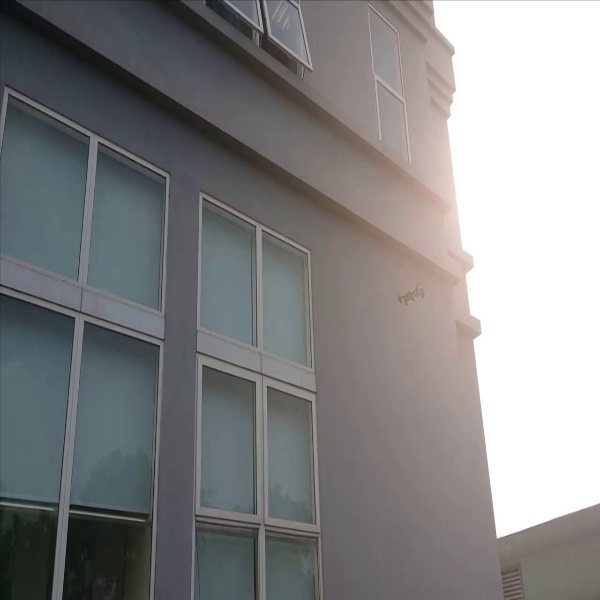drone: (390, 281, 431, 310)
